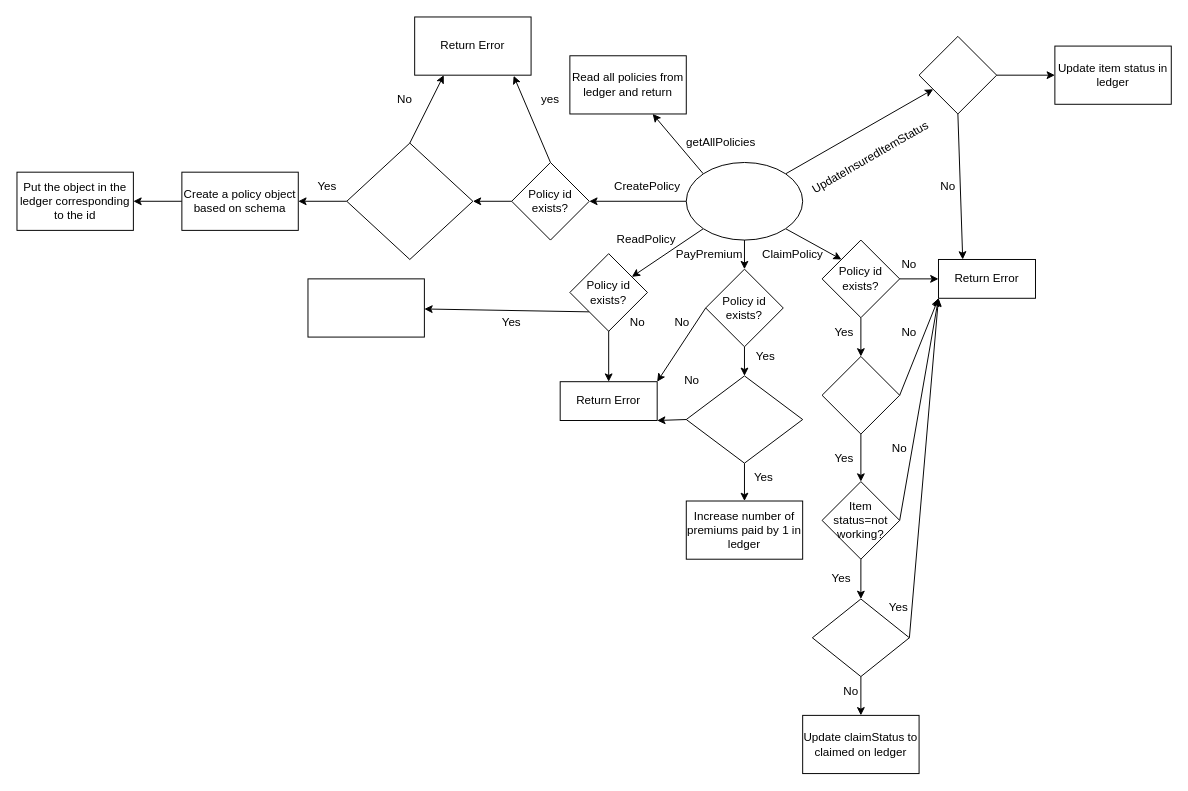
This 1188x791 diagram has some shape labels left out. The shapes that lost their labels are listed below. From the top down, each one's box as (x1, y1, x2, y2) in pixels, then its label:
(918, 35, 997, 114): Policy id exiists?
(346, 142, 473, 259): is amount = premiumAmount?
(685, 162, 803, 240): Client
(307, 278, 424, 337): Read policy from ledger using id and return
(821, 356, 900, 434): Required Premiums paid?
(685, 375, 803, 463): Paid amount = premium amount?
(811, 598, 909, 677): is policy claimStatus = claimed?
